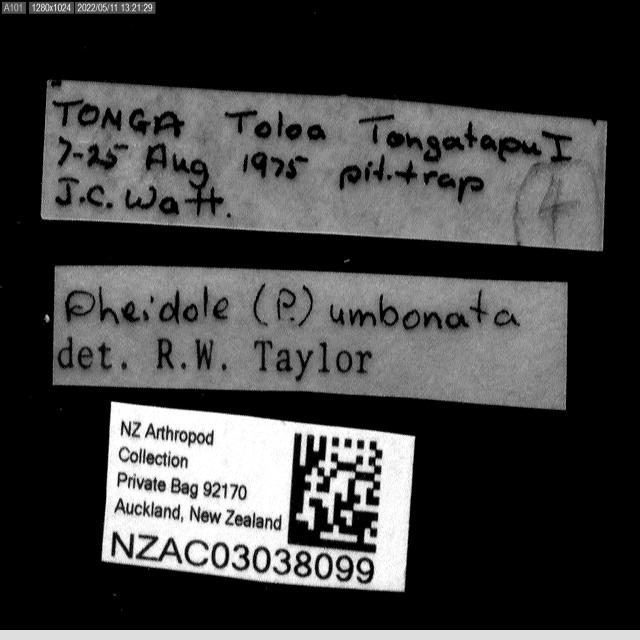hand_label: (41, 81, 606, 250)
mixed_label: (54, 266, 568, 409)
typed_label: (102, 402, 415, 592)
